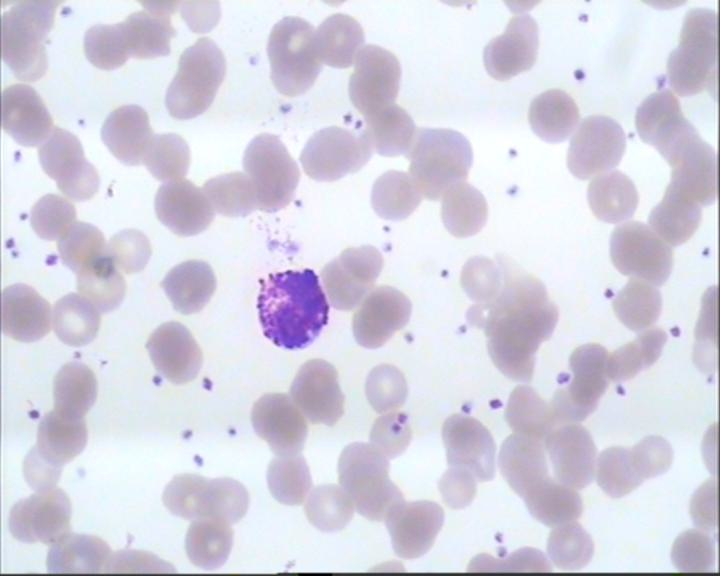baso: (249, 264, 334, 358)
